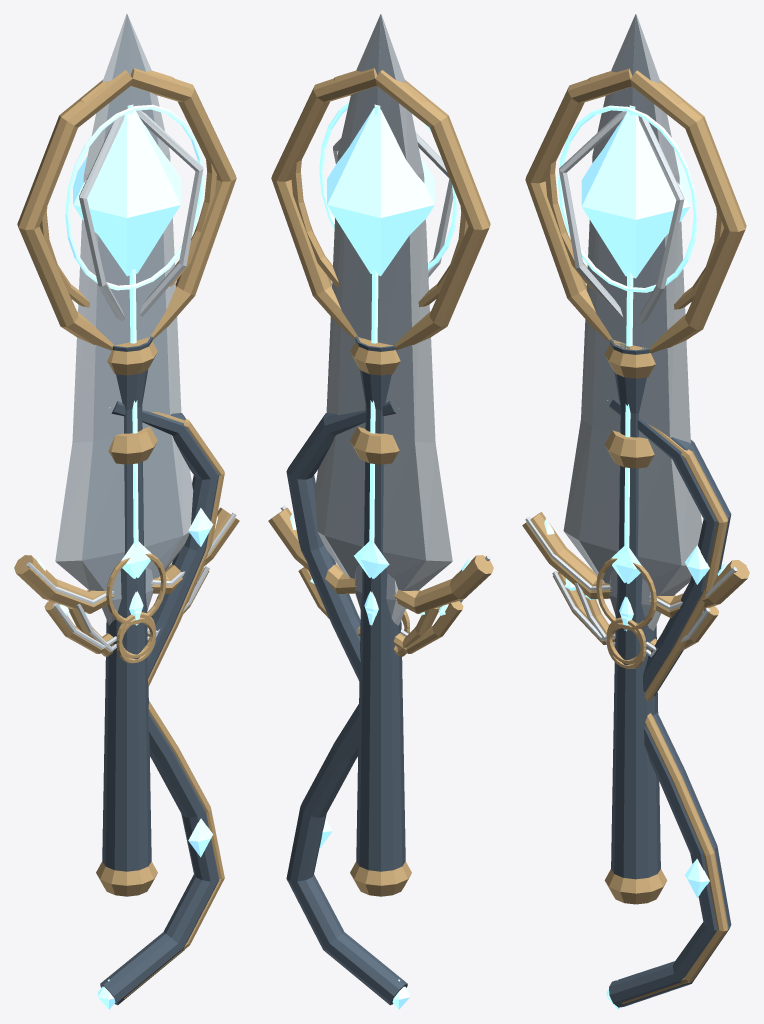
The model's file is arsenal311.glb.
3 renders of one model, left to right at view 1: azimuth 30°, elevation 25°; view 2: azimuth 150°, elevation 25°; view 3: azimuth 330°, elevation 25°, orthographic.
Visible parts, largest first — view 1: staff, great, bow, sword, dual; view 2: staff, great, bow, sword, dual; view 3: staff, great, bow, sword, dual.
Part boxes in pixels (x1,y1,x2,y2): staff: [17, 68, 236, 896]; great: [14, 14, 239, 624]; bow: [98, 401, 224, 1009]; sword: [44, 566, 209, 658]; dual: [68, 604, 160, 663]; staff: [271, 68, 490, 896]; great: [268, 14, 493, 613]; bow: [286, 401, 409, 1009]; sword: [298, 565, 463, 653]; dual: [367, 607, 439, 656]; staff: [525, 68, 746, 904]; great: [522, 14, 749, 630]; bow: [606, 397, 731, 1009]; sword: [552, 570, 718, 664]; dual: [575, 583, 657, 668].
Size of the model in its own units: 0.4945 by 2.11 by 0.2078.
